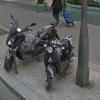Motorcycle: (4, 8, 74, 93)
